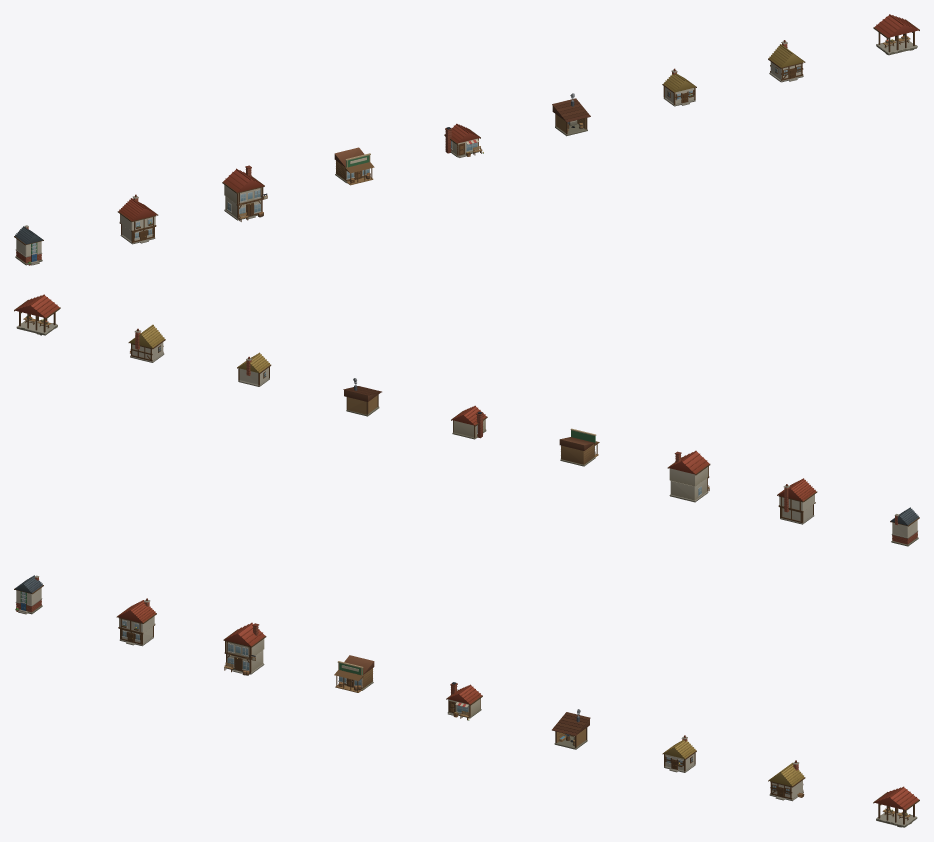
File: alley-buildings.glb
3 views of the same model, one above another, from view 1: azimuth 30°, elevation 25°; view 2: azimuth 150°, elevation 25°; view 3: azimuth 330°, elevation 25° (orthographic).
Visible parts, largest first — view 1: bld_tavern_inn_01, home_timber_2storey_01, bld_market_hall_01, bld_general_store_01, bld_blacksmith_01, home_thatched_house_01, bld_bakery_01, home_cottage_01, home_townhouse_01; view 2: bld_tavern_inn_01, home_timber_2storey_01, bld_market_hall_01, bld_general_store_01, home_thatched_house_01, bld_blacksmith_01, bld_bakery_01, home_townhouse_01, home_cottage_01; view 3: bld_tavern_inn_01, home_timber_2storey_01, bld_market_hall_01, bld_general_store_01, bld_blacksmith_01, home_thatched_house_01, bld_bakery_01, home_townhouse_01, home_cottage_01.
Boxes of the visible parts, x1=… form: bld_tavern_inn_01: x1=222, y1=165, x2=267, y2=221; home_timber_2storey_01: x1=117, y1=194, x2=158, y2=244; bld_market_hall_01: x1=873, y1=14, x2=919, y2=55; bld_general_store_01: x1=334, y1=147, x2=374, y2=185; bld_blacksmith_01: x1=552, y1=93, x2=590, y2=136; home_thatched_house_01: x1=768, y1=40, x2=805, y2=82; bld_bakery_01: x1=444, y1=123, x2=483, y2=157; home_cottage_01: x1=662, y1=68, x2=696, y2=106; home_townhouse_01: x1=14, y1=225, x2=43, y2=265; bld_tavern_inn_01: x1=667, y1=450, x2=710, y2=502; home_timber_2storey_01: x1=777, y1=478, x2=817, y2=524; bld_market_hall_01: x1=14, y1=294, x2=60, y2=335; bld_general_store_01: x1=559, y1=428, x2=599, y2=466; home_thatched_house_01: x1=128, y1=324, x2=165, y2=362; bld_blacksmith_01: x1=343, y1=378, x2=381, y2=416; bld_bakery_01: x1=451, y1=405, x2=487, y2=439; home_townhouse_01: x1=890, y1=507, x2=919, y2=546; home_cottage_01: x1=237, y1=352, x2=271, y2=386; bld_tavern_inn_01: x1=223, y1=622, x2=266, y2=675; home_timber_2storey_01: x1=116, y1=598, x2=156, y2=646; bld_market_hall_01: x1=873, y1=786, x2=919, y2=827; bld_general_store_01: x1=334, y1=655, x2=374, y2=692; bld_blacksmith_01: x1=552, y1=709, x2=590, y2=749; home_thatched_house_01: x1=768, y1=760, x2=805, y2=801; bld_bakery_01: x1=446, y1=682, x2=482, y2=720; home_townhouse_01: x1=14, y1=575, x2=43, y2=614; home_cottage_01: x1=662, y1=735, x2=696, y2=772.
Size of the model in its own units: 124 by 5.62 by 4.
